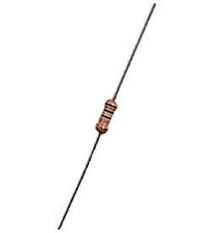resistor: (91, 86, 125, 149)
